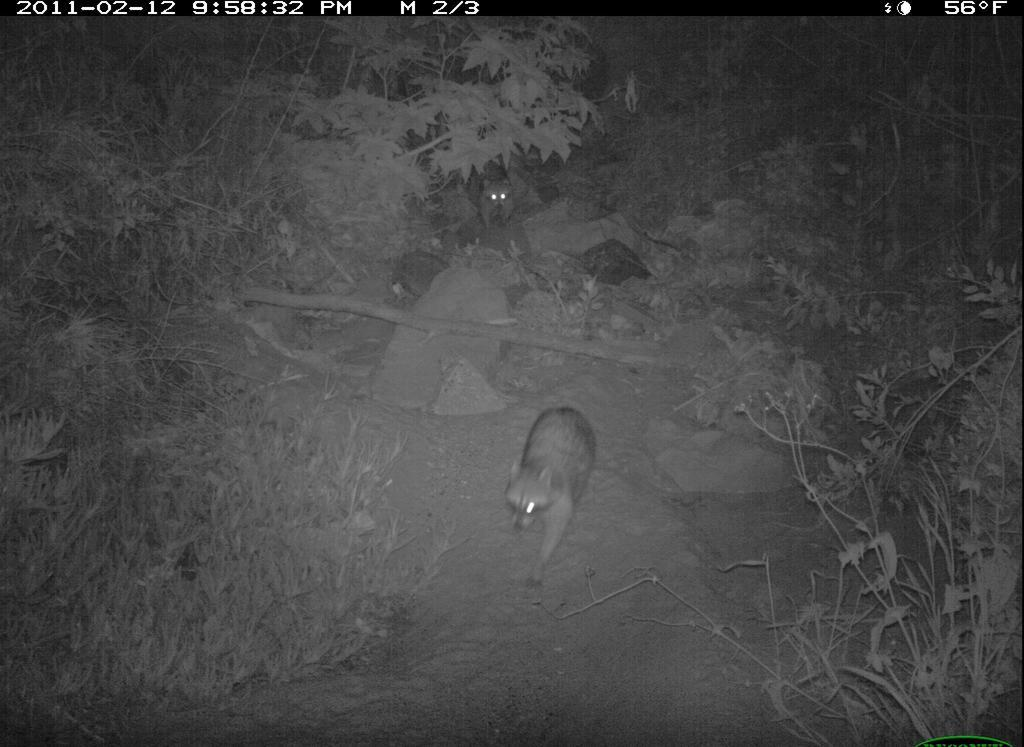raccoon: (500, 390, 619, 603), (473, 154, 524, 242)
